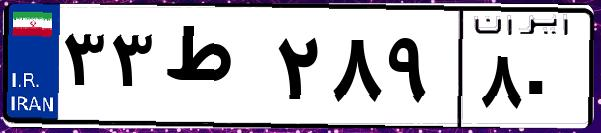0: (525, 38, 570, 115)
2: (270, 28, 330, 110)
3: (57, 26, 110, 100), (110, 28, 158, 98)
8: (330, 28, 385, 110), (475, 38, 525, 113)
9: (385, 28, 445, 110)
ط: (158, 20, 270, 120)
